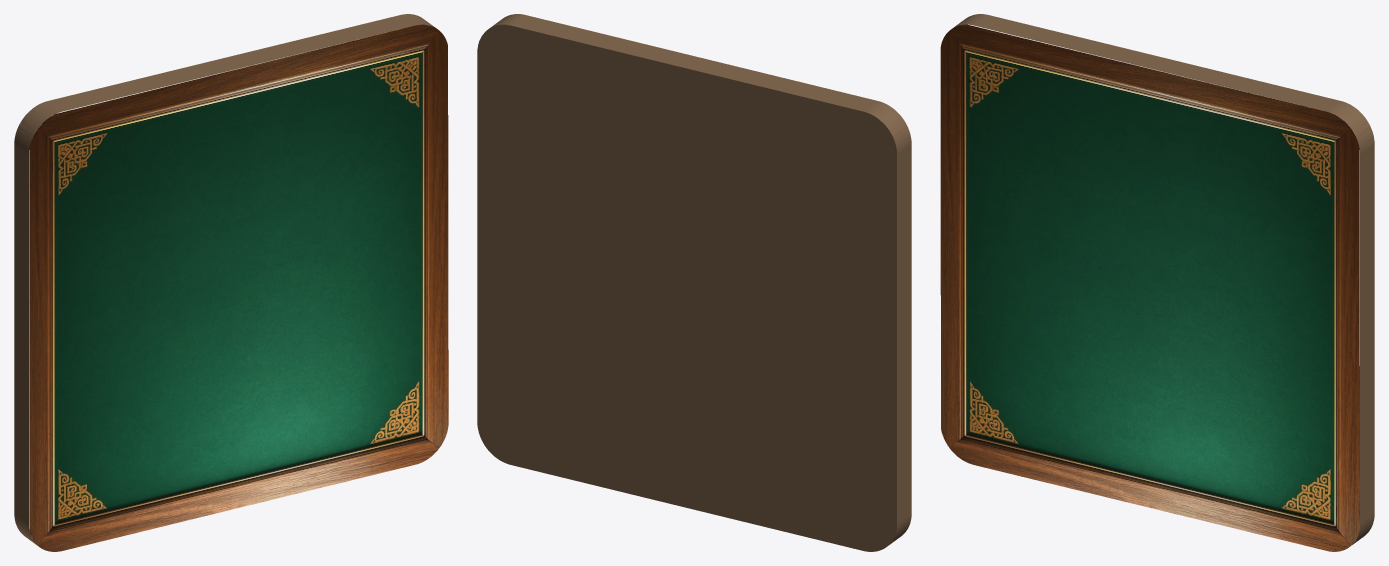
File: rounded_table_panel_v4.glb
3 views of the same model, side by side, from view 1: azimuth 30°, elevation 25°; view 2: azimuth 150°, elevation 25°; view 3: azimuth 330°, elevation 25° (orthographic).
Parts seen in each view (by area): view 1: top, sides; view 2: sides; view 3: top, sides.
Part boxes in pixels (x1,y1,x2,y2): top: [29, 24, 448, 551]; sides: [14, 14, 434, 544]; sides: [477, 14, 911, 551]; top: [940, 24, 1359, 551]; sides: [954, 14, 1374, 544].
Bounding box in the file's own units: 1 × 1 × 0.06.
1 material, 1 textured.
